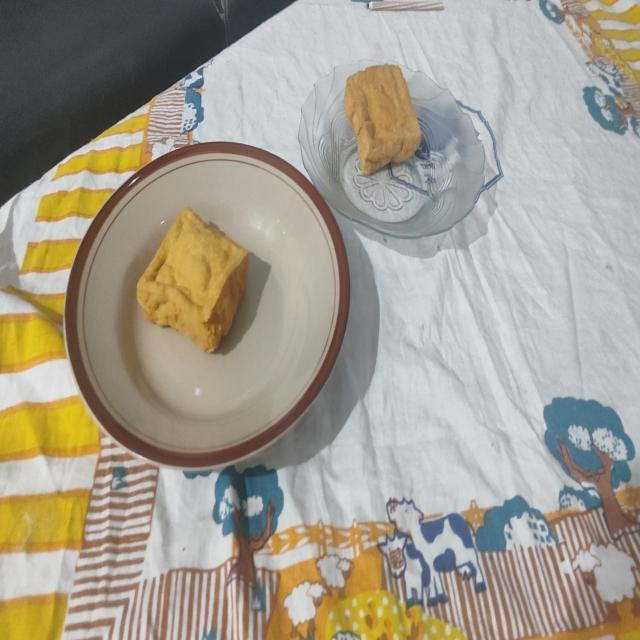tahu_goreng: (137, 208, 249, 352), (344, 64, 421, 175)
